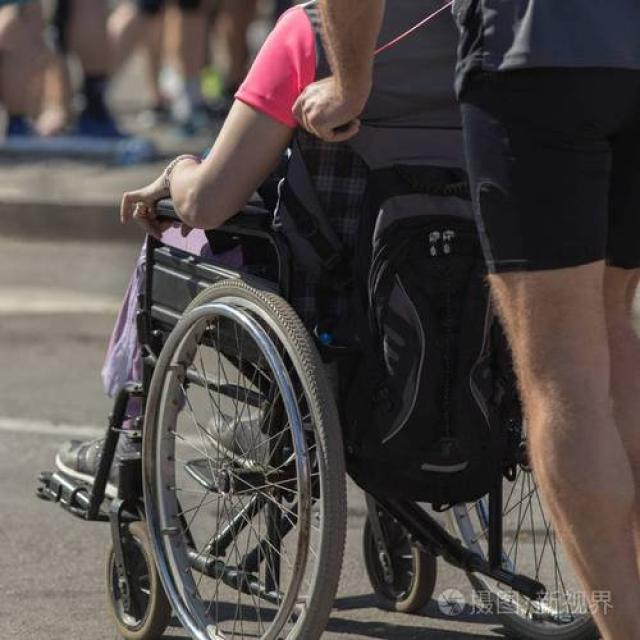wheelchairs: (29, 153, 626, 640)
